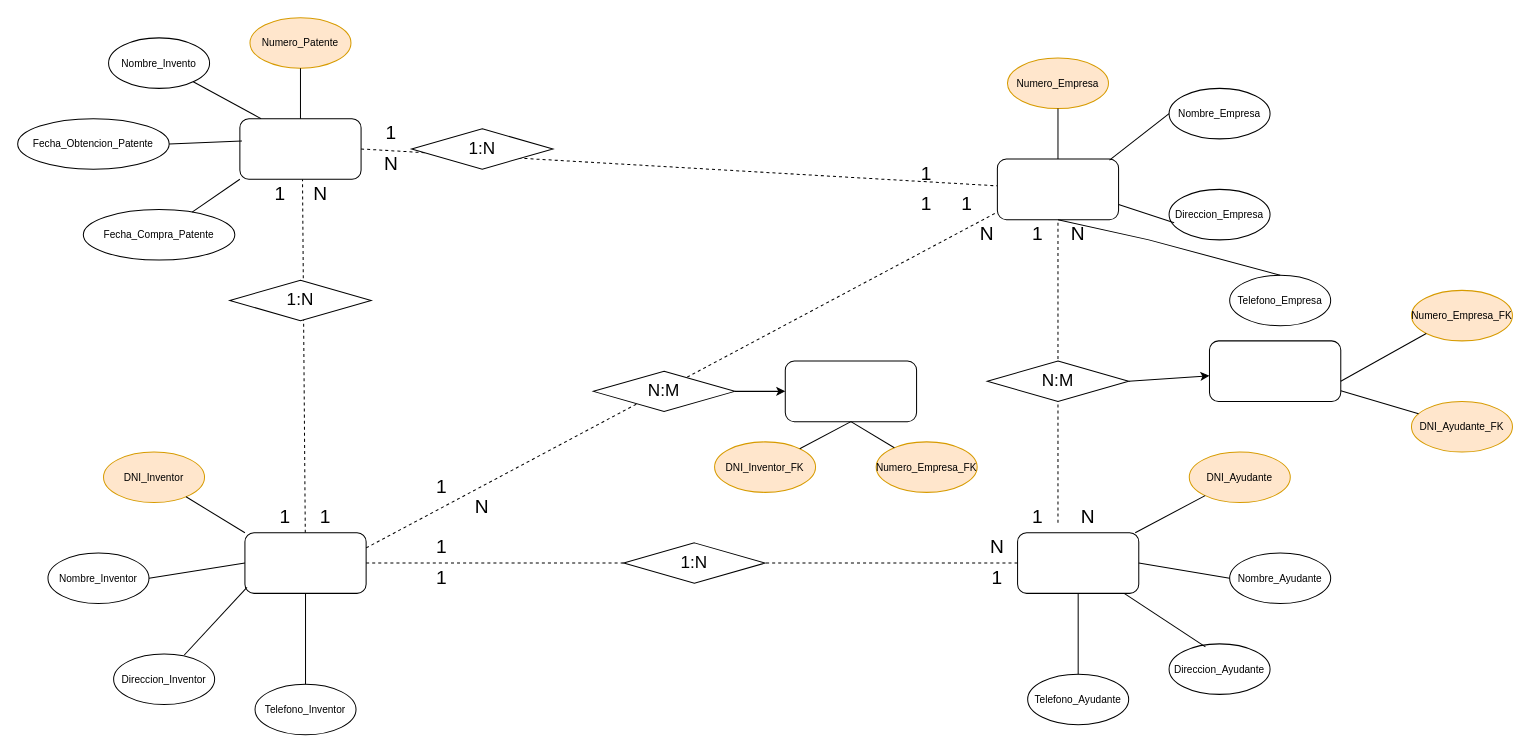
Some shapes in this 1530 by 752 pixel diagram are drawn without their labels. The shapes that lost their labels are listed below. From the top down, each one's centre as x and y in pixels, then its label:
At [300,148]: "Patente".
At [1057,189]: "Empresa".
At [1274,370]: "Empresa_Ayudante".
At [850,391]: "Empresa_Inventor".
At [305,562]: "Inventor".
At [1078,562]: "Ayudante".
